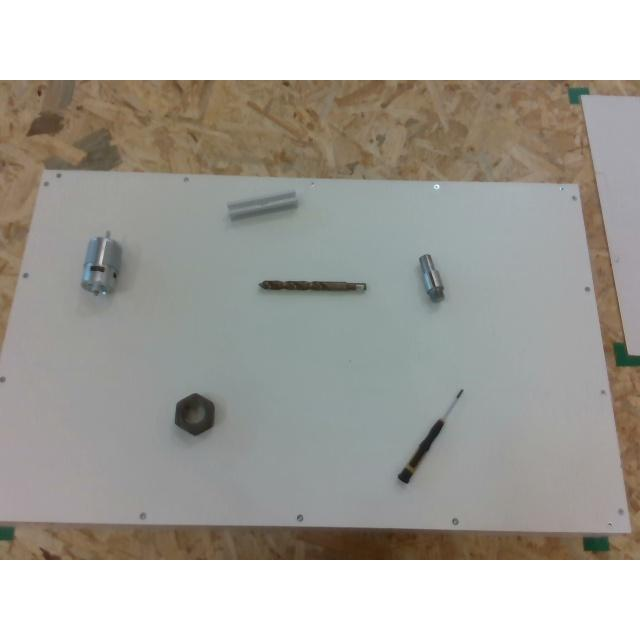Axis2: (420, 254, 444, 302)
Drill: (260, 278, 366, 290)
F20_20_G: (226, 190, 298, 218)
M30: (174, 394, 213, 434)
Motor2: (81, 232, 119, 294)
